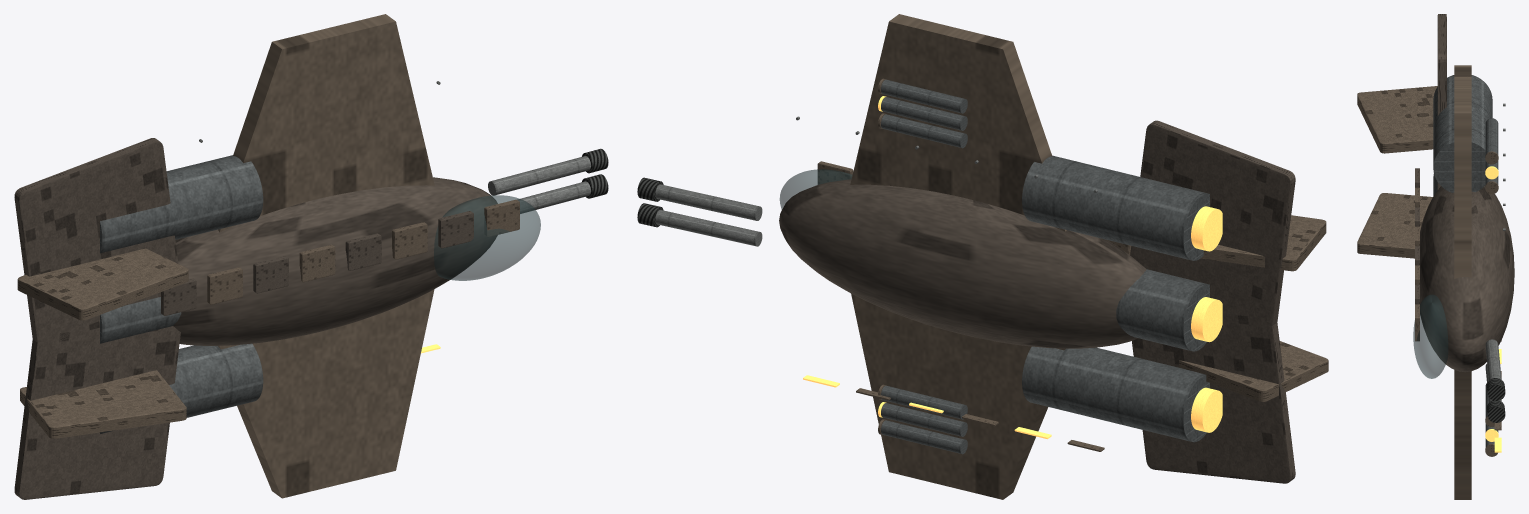
File: d-u24-dominion-light-gunship-lod0.glb
3 renders of one model, left to right at view 1: azimuth 30°, elevation 25°; view 2: azimuth 150°, elevation 25°; view 3: azimuth 270°, elevation 25°, orthographic. The views are drawn at different scales.
Parts seen in each view (by area): view 1: combat_main_wing, combat_fuselage, combat_tailplane_-1, combat_tailplane_1, combat_engine_2, combat_fin_1, combat_fin_-1, combat_engine_0, combat_canopy, combat_engine_1, combat_gun_barrel_1, airframe_panel_3 (+8 smaller); view 2: combat_main_wing, combat_fuselage, combat_tailplane_1, combat_tailplane_-1, combat_engine_2, combat_engine_0, combat_engine_1, combat_fin_-1, combat_fin_1, combat_gun_barrel_0, combat_gun_barrel_1, combat_-1_tube_1 (+9 smaller); view 3: combat_fuselage, combat_main_wing, combat_fin_1, combat_engine_2, combat_fin_-1, combat_canopy, combat_tailplane_1, combat_gun_barrel_1, combat_1_tube_3, combat_gun_muzzle_1, combat_gun_muzzle_0.
Part boxes in pixels (x1=…): combat_main_wing: x1=218, y1=14, x2=434, y2=498; combat_fuselage: x1=173, y1=177, x2=497, y2=345; combat_tailplane_-1: x1=14, y1=326, x2=180, y2=499; combat_tailplane_1: x1=14, y1=138, x2=178, y2=346; combat_engine_2: x1=100, y1=155, x2=263, y2=253; combat_fin_1: x1=17, y1=248, x2=188, y2=320; combat_fin_-1: x1=20, y1=370, x2=186, y2=438; combat_engine_0: x1=100, y1=343, x2=263, y2=433; combat_canopy: x1=434, y1=195, x2=540, y2=280; combat_engine_1: x1=100, y1=297, x2=181, y2=343; combat_gun_barrel_1: x1=488, y1=156, x2=590, y2=195; airframe_panel_3: x1=299, y1=244, x2=335, y2=282; combat_main_wing: x1=850, y1=14, x2=1066, y2=499; combat_fuselage: x1=779, y1=179, x2=1146, y2=348; combat_tailplane_1: x1=1130, y1=120, x2=1295, y2=328; combat_tailplane_-1: x1=1132, y1=313, x2=1295, y2=483; combat_engine_2: x1=1022, y1=155, x2=1209, y2=260; combat_engine_0: x1=1022, y1=346, x2=1209, y2=442; combat_engine_1: x1=1116, y1=269, x2=1209, y2=351; combat_fin_-1: x1=1179, y1=341, x2=1328, y2=401; combat_fin_1: x1=1201, y1=215, x2=1326, y2=271; combat_gun_barrel_0: x1=655, y1=209, x2=762, y2=246; combat_gun_barrel_1: x1=655, y1=184, x2=762, y2=220; combat_-1_tube_1: x1=881, y1=420, x2=967, y2=454; combat_fuselage: x1=1420, y1=185, x2=1514, y2=372; combat_main_wing: x1=1454, y1=65, x2=1471, y2=499; combat_fin_1: x1=1357, y1=86, x2=1437, y2=153; combat_engine_2: x1=1433, y1=75, x2=1492, y2=192; combat_fin_-1: x1=1357, y1=193, x2=1432, y2=258; combat_canopy: x1=1413, y1=294, x2=1448, y2=378; combat_tailplane_1: x1=1437, y1=14, x2=1446, y2=189; combat_gun_barrel_1: x1=1485, y1=339, x2=1501, y2=380; combat_1_tube_3: x1=1485, y1=118, x2=1498, y2=154; combat_gun_muzzle_1: x1=1487, y1=378, x2=1505, y2=400; combat_gun_muzzle_0: x1=1487, y1=400, x2=1505, y2=422.
Size of what is drawn, in the model's own units: 13 by 9.02 by 3.33.
Materials: 7 (7 with a texture image).
